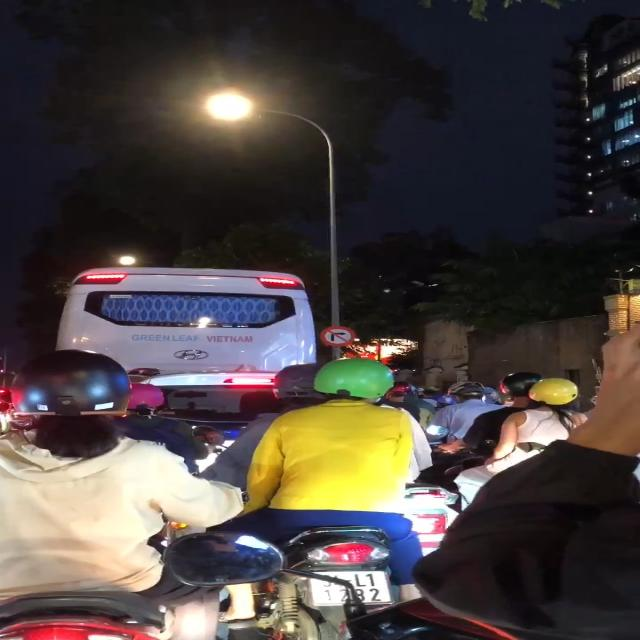Bien bao cam re phai: (318, 323, 358, 347)
